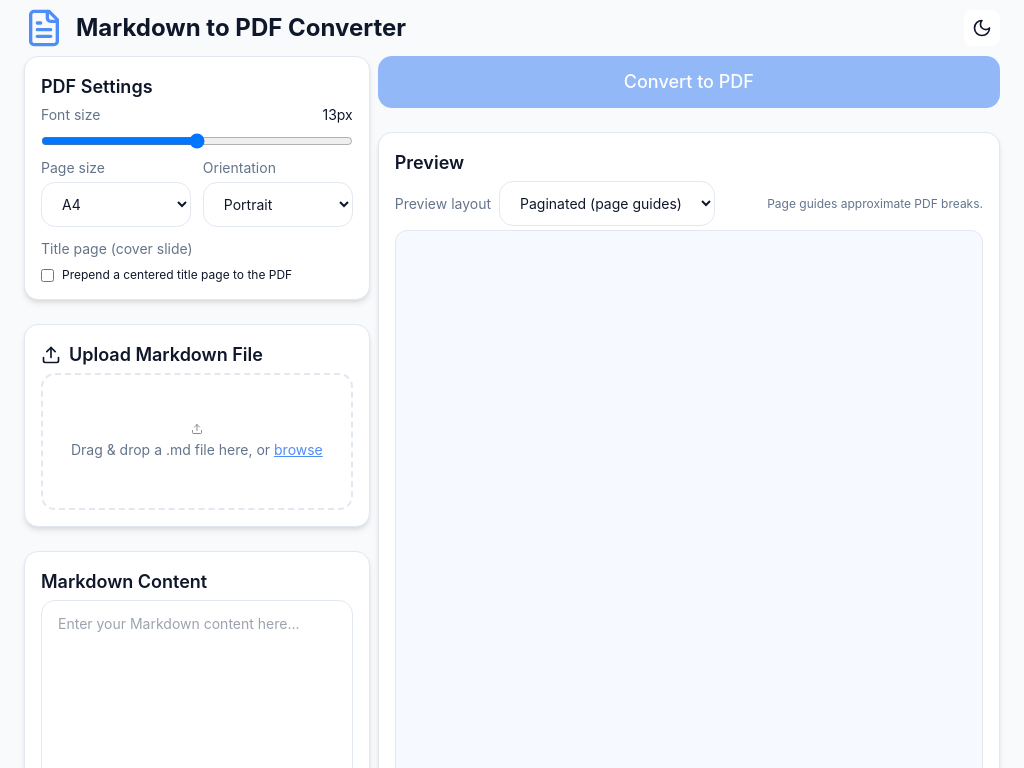
App Component › switching preview layout updates helper text
The width and height of the screenshot is (1024, 768).
Select "Continuous scroll" in the dropdown labelled "Preview layout" at (607, 204), box [499, 181, 715, 226]
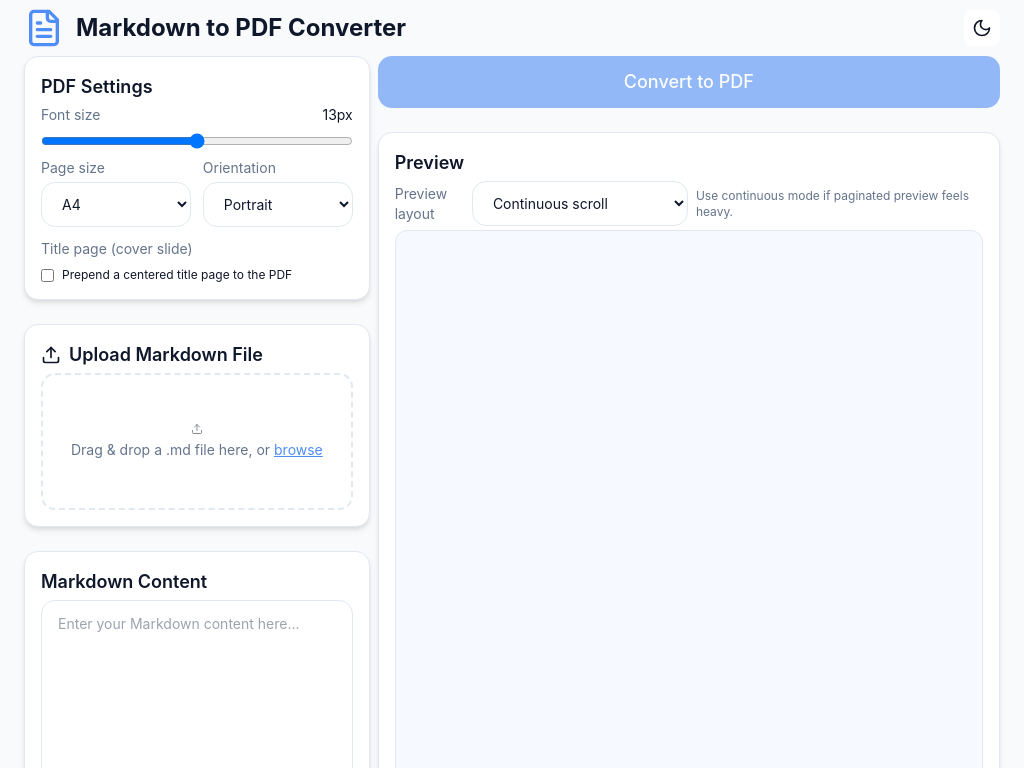
Expected: the text "Use continuous mode if paginated preview feels heavy." is shown, [696, 188, 983, 220]
